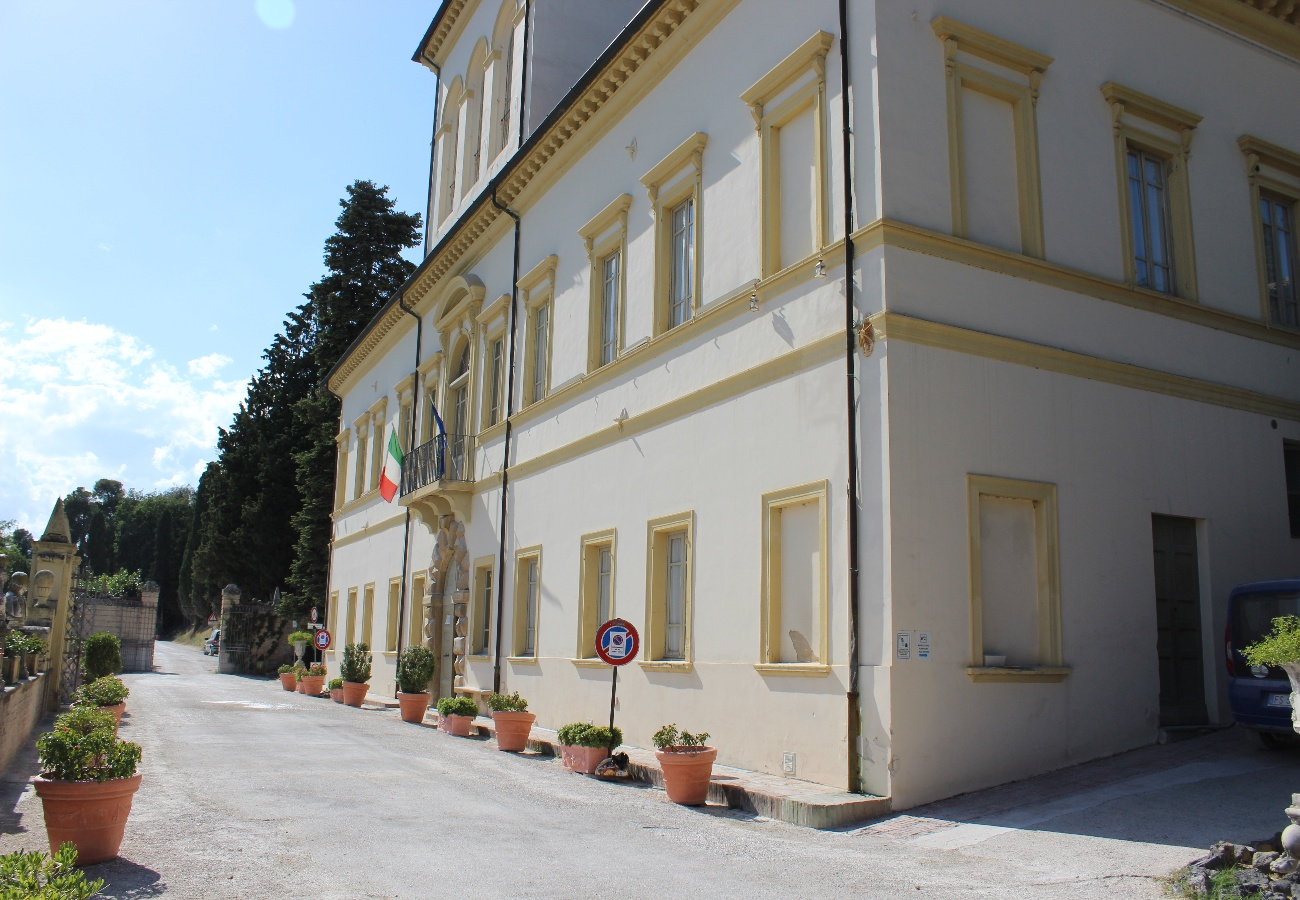Villa Caprile: (321, 9, 878, 828)
